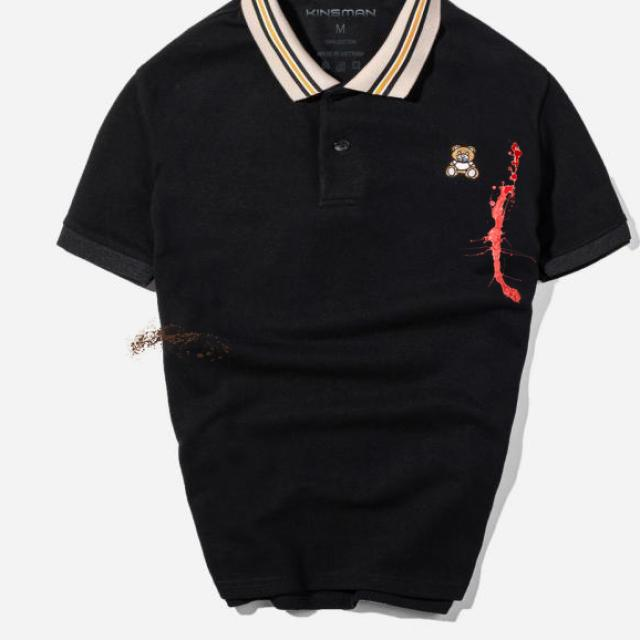stain: (472, 140, 532, 300), (126, 321, 224, 361)
